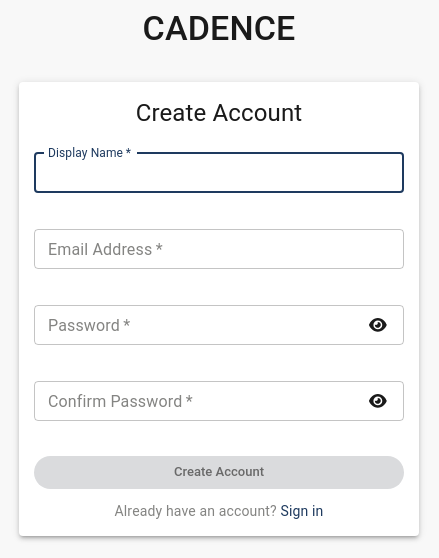
Test: RegisterPage › validates email format on blur
Expected: the heading "Create Account" is shown, [136,99,302,127]
// Enter invalid email
Type "invalid-email" into the field labelled "Email Address *" at (219, 249), box [34,229,404,269]
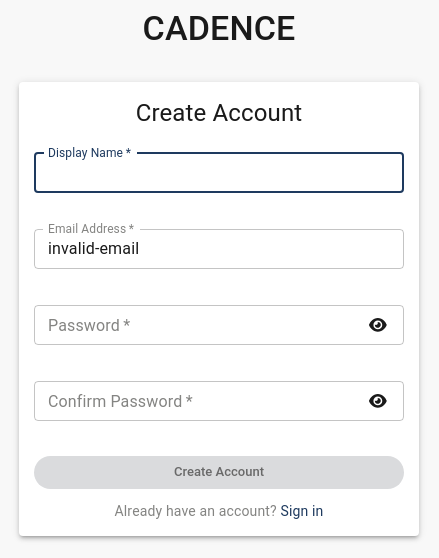
Leave the field labelled "Email Address *", box [34,229,404,269]
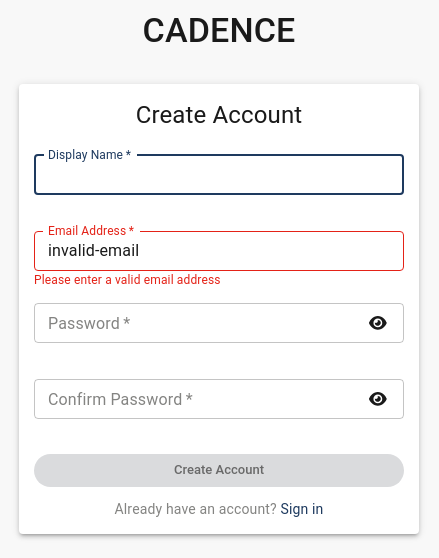
Now the text "Please enter a valid email address" is shown, box [34,273,221,287]
